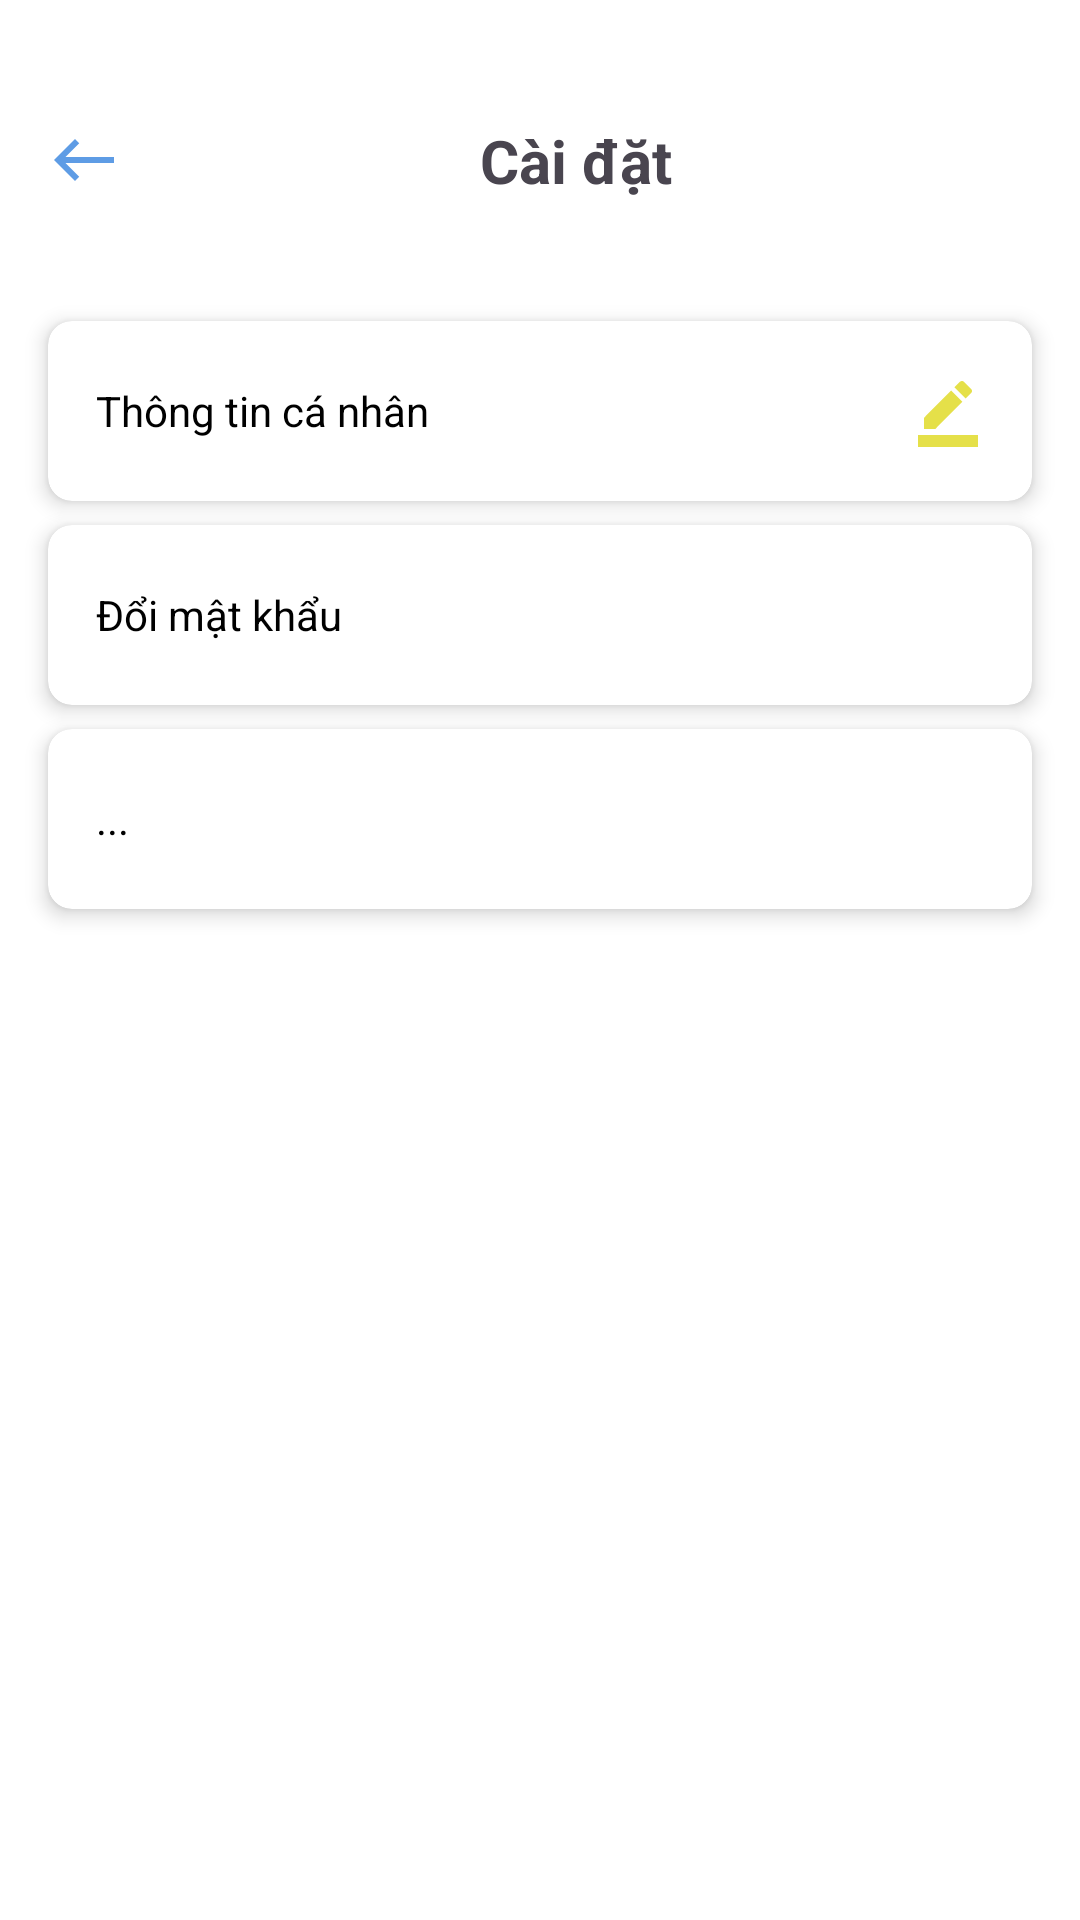

Screen size 1080w x 1920h. Icon name, then its center in pixels as (x=x, y=y):
arrow back: (x=84, y=160)
